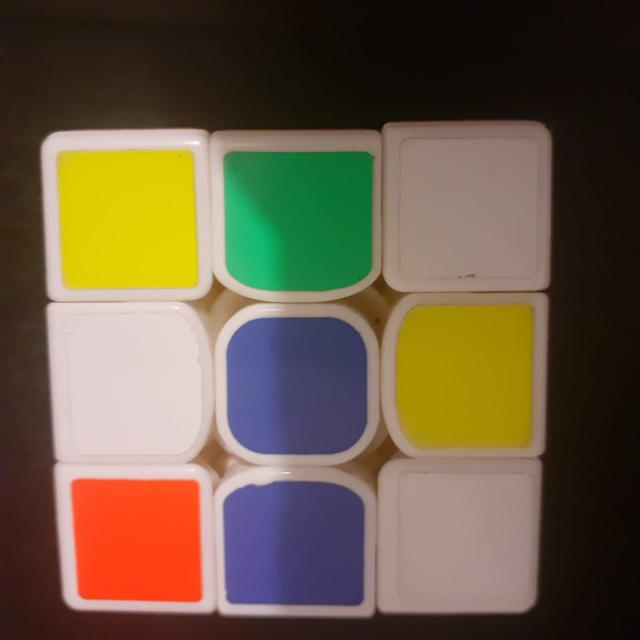Blue: (223, 304, 373, 466), (226, 474, 366, 618)
Green: (222, 138, 372, 302)
Orange: (59, 474, 213, 612)
White: (389, 134, 547, 284), (52, 312, 202, 456), (386, 469, 532, 609)
Yellow: (46, 142, 210, 298), (389, 294, 541, 456)
